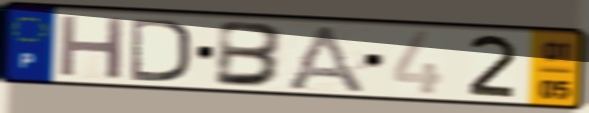2: (467, 33, 519, 100)
4: (389, 28, 447, 98)
A: (280, 23, 372, 96)
B: (212, 18, 289, 89)
D: (129, 15, 195, 84)
H: (57, 12, 129, 81)
